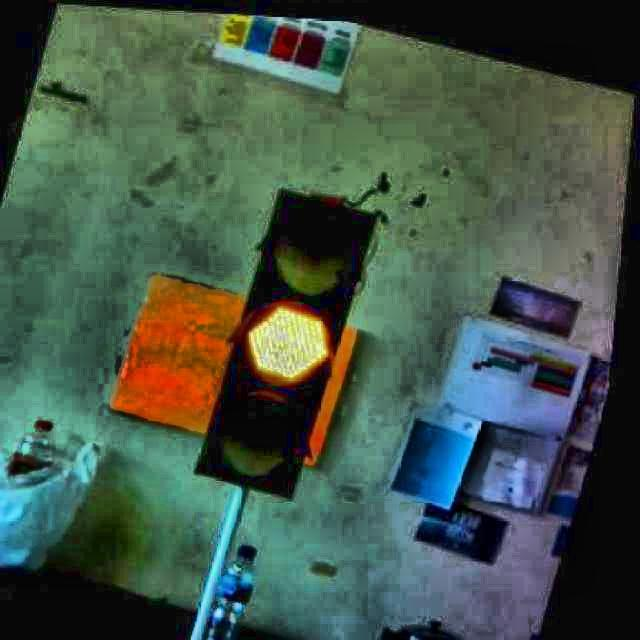yellow: (218, 191, 366, 507)
